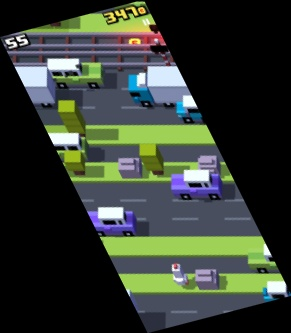car: (46, 57, 105, 90), (81, 207, 138, 238), (34, 133, 88, 162), (176, 95, 225, 125), (171, 171, 223, 199), (249, 242, 291, 274), (262, 280, 291, 305)
coin: (128, 35, 142, 47)
duck: (171, 263, 189, 290)
light off: (148, 40, 175, 70)
light on: (148, 23, 170, 49)
rail: (5, 49, 182, 72), (2, 32, 173, 53)
rock: (117, 156, 143, 179), (198, 155, 221, 178), (196, 269, 219, 290)
tree: (58, 100, 86, 138), (140, 143, 164, 176), (65, 151, 85, 175)
truck: (128, 66, 207, 109), (1, 66, 56, 108)
